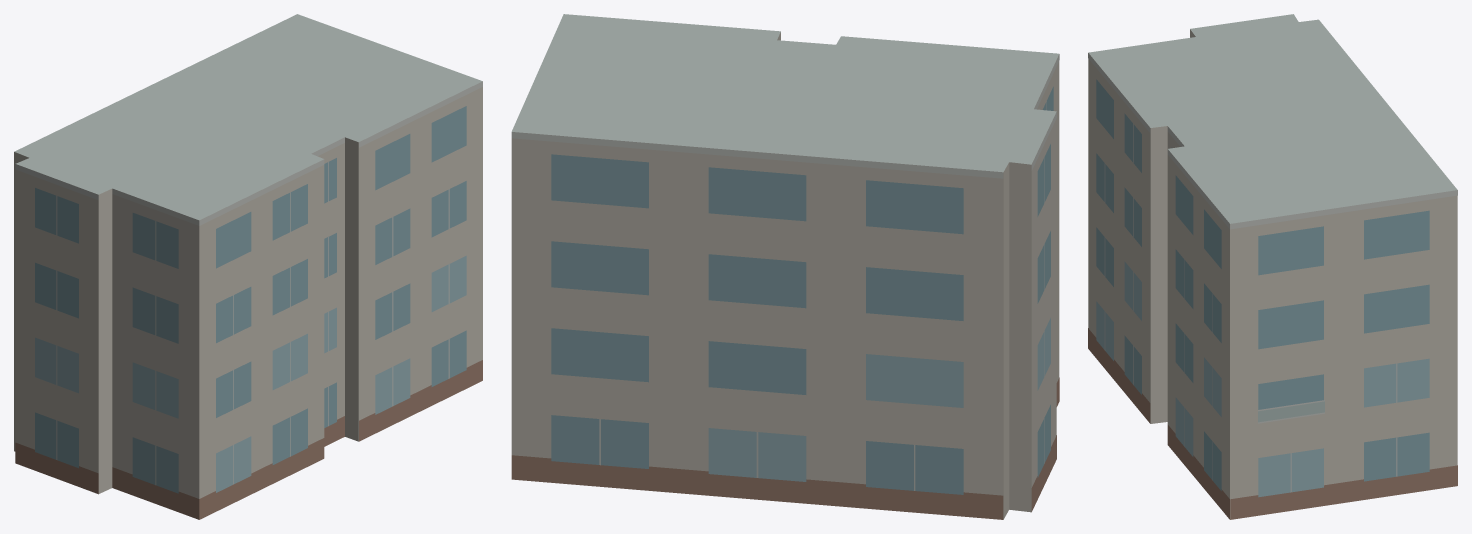
File: survey-upis-32628962.glb
3 renders of one model, left to right at view 1: azimuth 30°, elevation 25°; view 2: azimuth 150°, elevation 25°; view 3: azimuth 270°, elevation 25°, orthographic. The views are drawn at different scales.
Visible parts, largest first — view 1: survey-upis-32628962.tmp; view 2: survey-upis-32628962.tmp; view 3: survey-upis-32628962.tmp.
Part boxes in pixels (bbox=[...]): survey-upis-32628962.tmp: bbox=[14, 14, 482, 519]; survey-upis-32628962.tmp: bbox=[511, 14, 1059, 519]; survey-upis-32628962.tmp: bbox=[1088, 14, 1457, 519].
Bounding box in the file's own units: 19.94 × 13.1 × 14.84.
